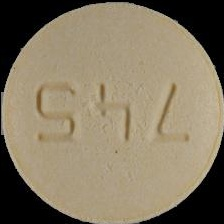68084-954: (0, 0, 224, 224)
